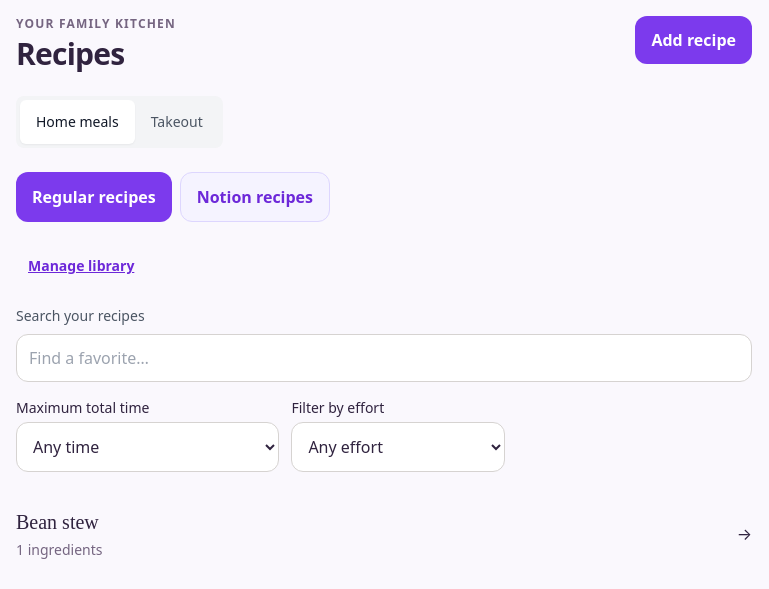
Test case: dedicated Recipes destination › opens to searchable saved recipes and keeps management out of the list
The image size is (769, 589).
Expected: the button "Bean stew 1 ingredients →" is shown, x1=16 y1=496 x2=752 y2=572
Expected: the button "Add recipe" is shown, x1=636 y1=16 x2=752 y2=64
In the search field labelled "Search your recipes": [384, 358] box x1=16 y1=334 x2=752 y2=382, type "no match"
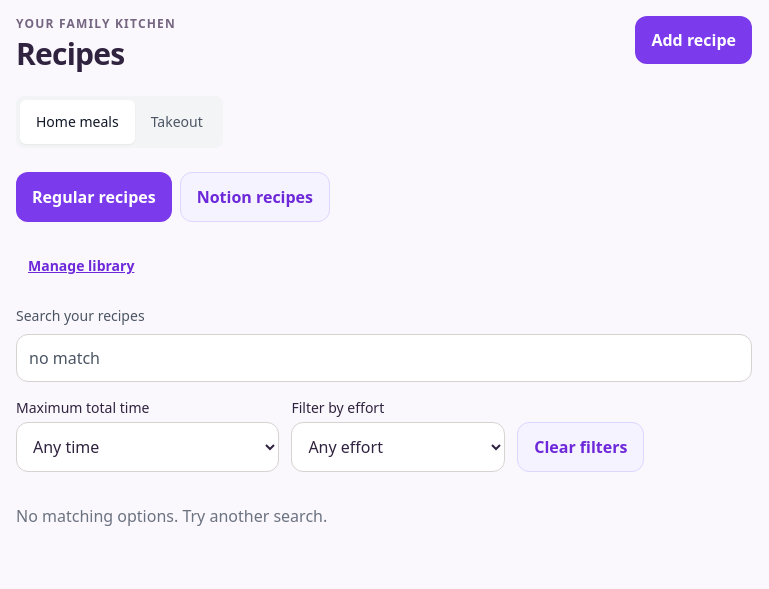
Expected: the text "No matching options. Try another search." is shown, x1=16 y1=505 x2=327 y2=527
